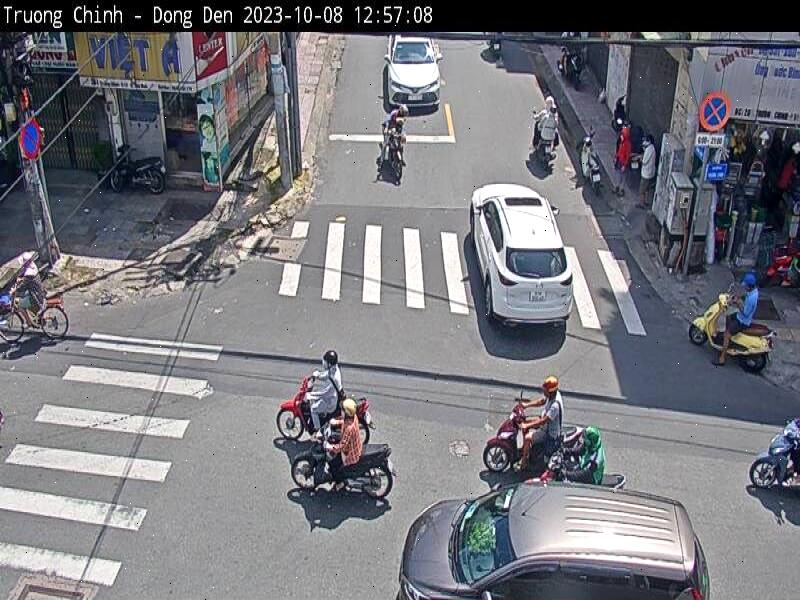car: (392, 499, 727, 594), (466, 187, 576, 347), (383, 36, 444, 116)
motorcycle: (287, 430, 407, 516), (748, 419, 800, 512), (99, 144, 167, 193), (269, 376, 320, 438)
